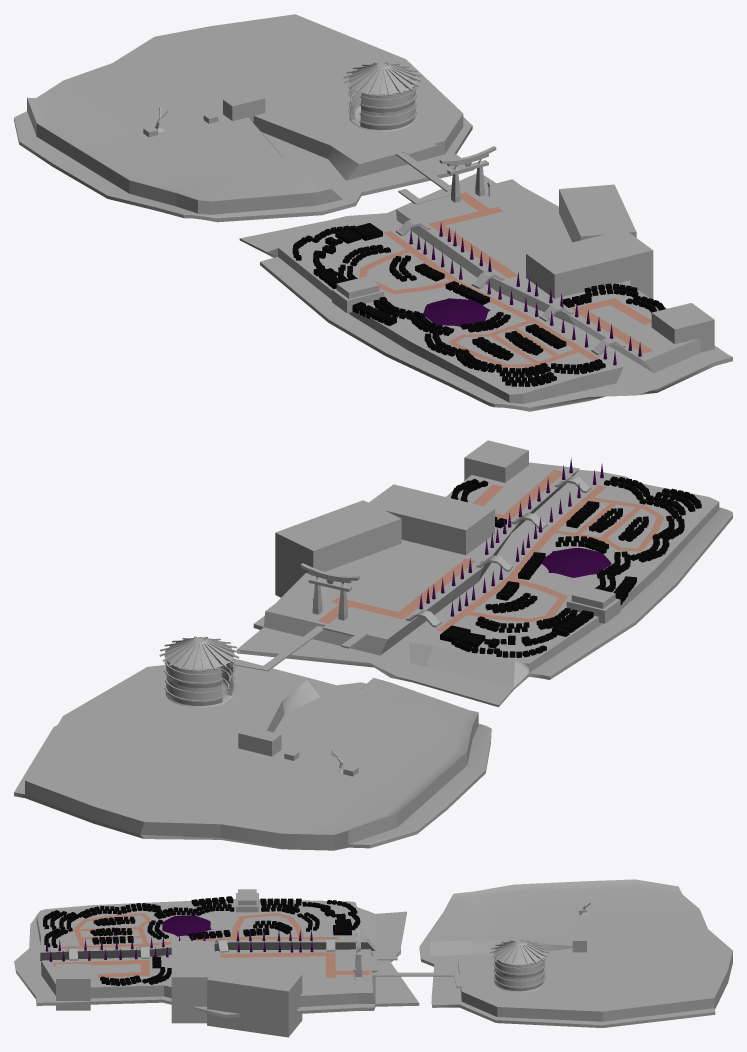
Rendered from GREYBOXLOL.fbx.
3 views of the same model, one above another, from view 1: azimuth 30°, elevation 25°; view 2: azimuth 150°, elevation 25°; view 3: azimuth 270°, elevation 25° (orthographic). The views are drawn at different scales.
Visible parts, largest first — view 1: polySurface635; view 2: polySurface635; view 3: polySurface635.
Part boxes in pixels (left/top/right/bottom): polySurface635: left=14, top=14, right=732, bottom=411; polySurface635: left=14, top=440, right=732, bottom=850; polySurface635: left=14, top=879, right=732, bottom=1037.
Size of the model in its own units: 12368 by 2820 by 27104.
